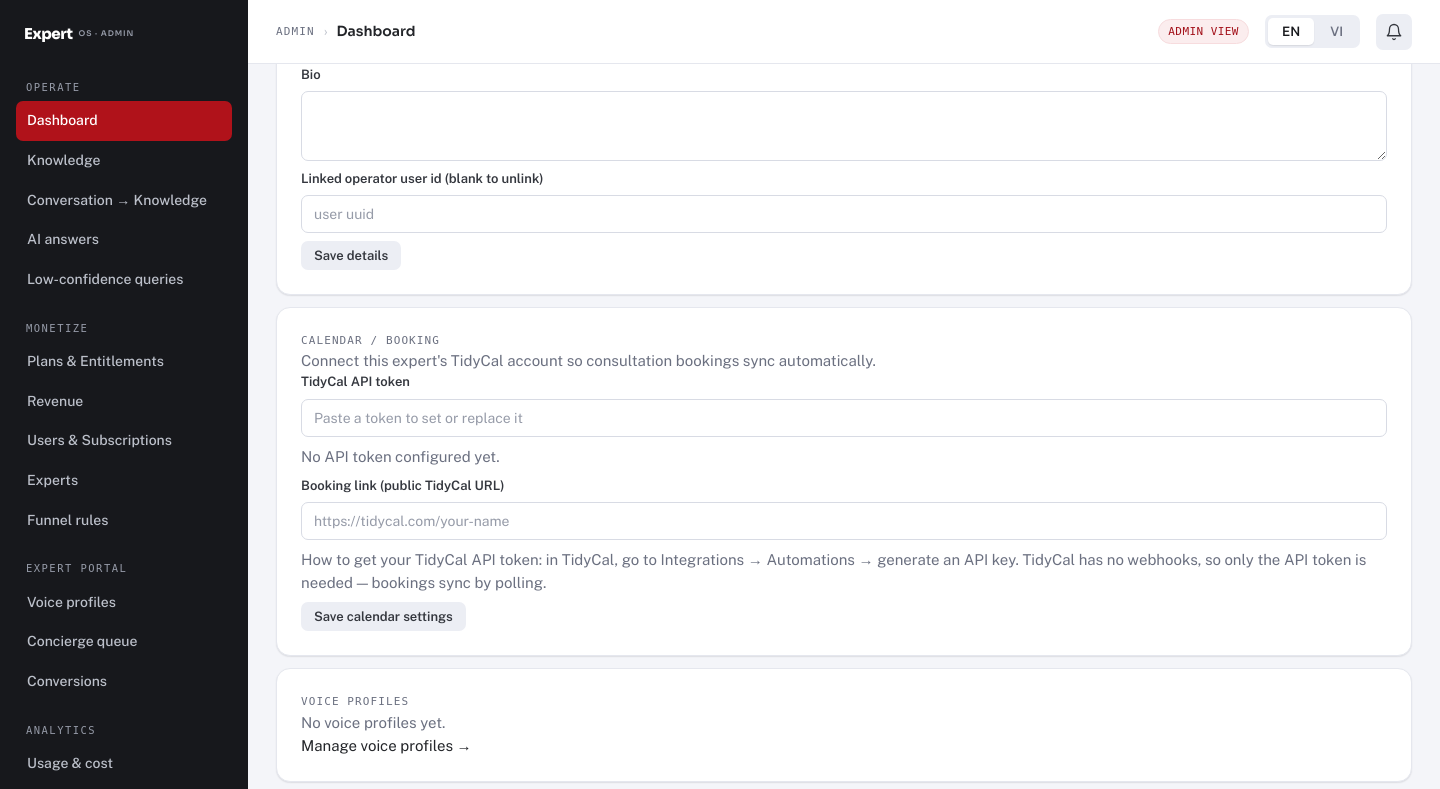
Test: CalendarEditor — save › omits the token when blank but sends the booking link (admin)
The width and height of the screenshot is (1440, 789).
(page scrolled)
In the field with placeholder "https://tidycal.com/your-name": {"x": 844, "y": 521} 301,502 -> 1387,540, type "https://tidycal.com/dr-lan"
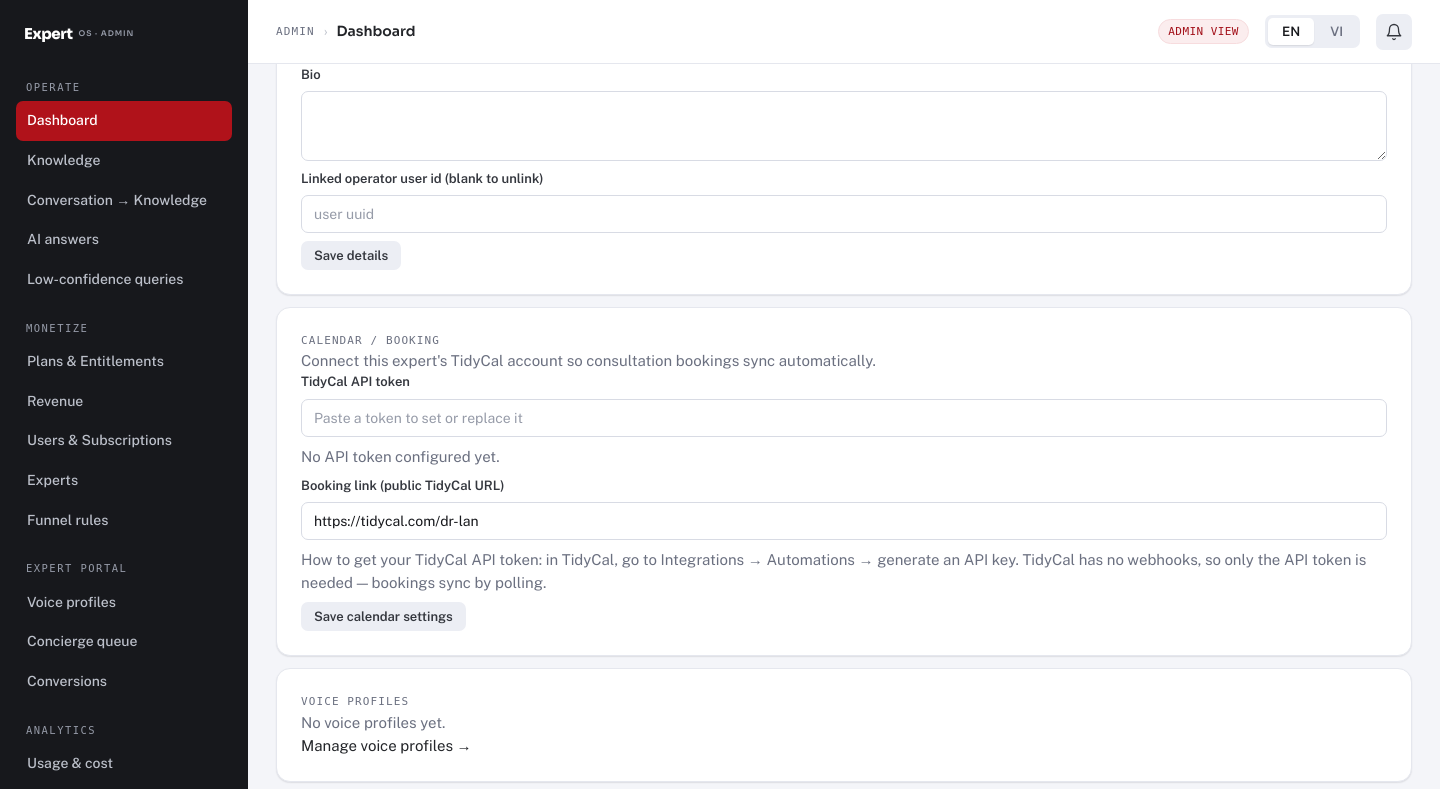
Click the button "Save calendar settings": {"x": 383, "y": 617} 301,602 -> 466,632
(page scrolled)
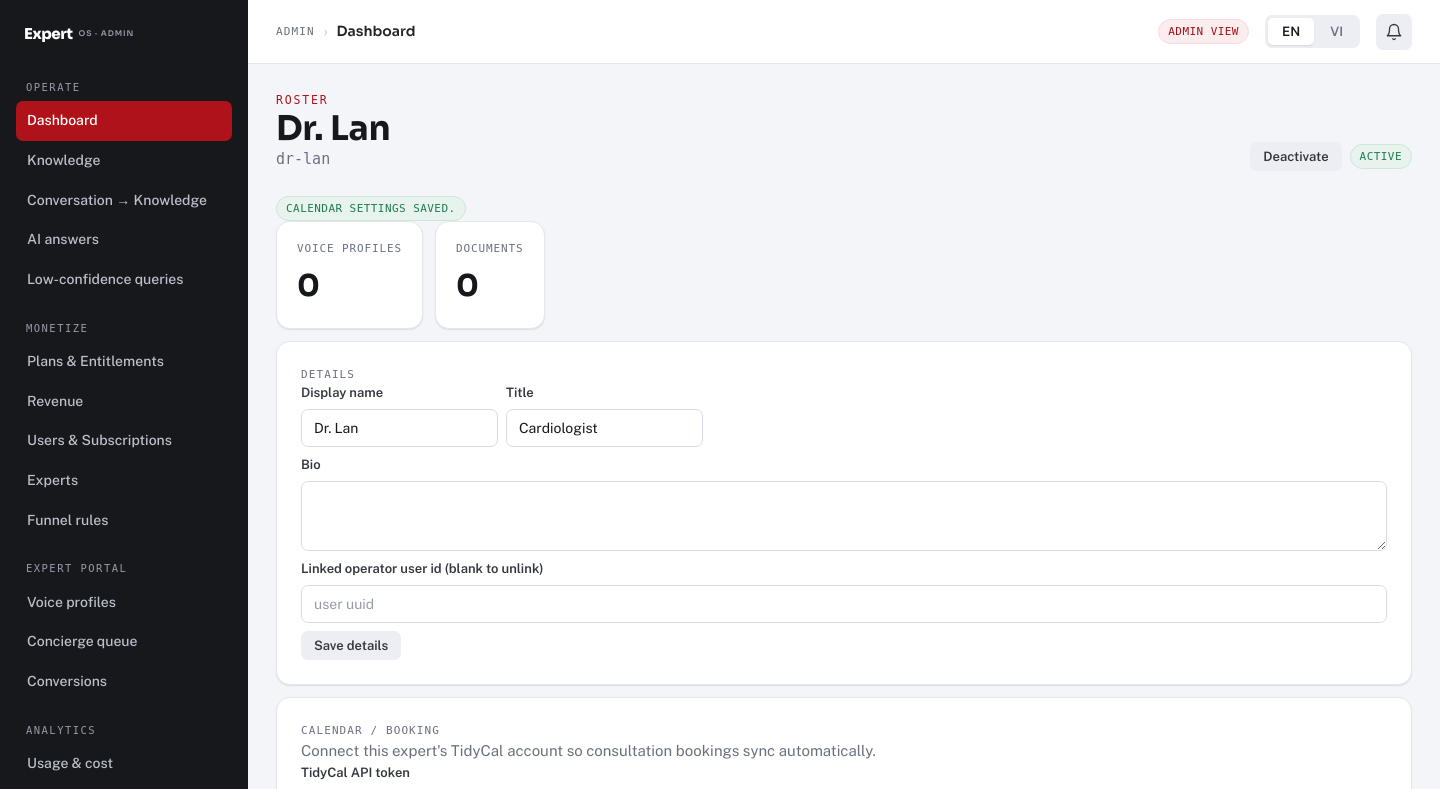
Expected: the text "Calendar settings saved." is shown, 276,196 -> 466,221
